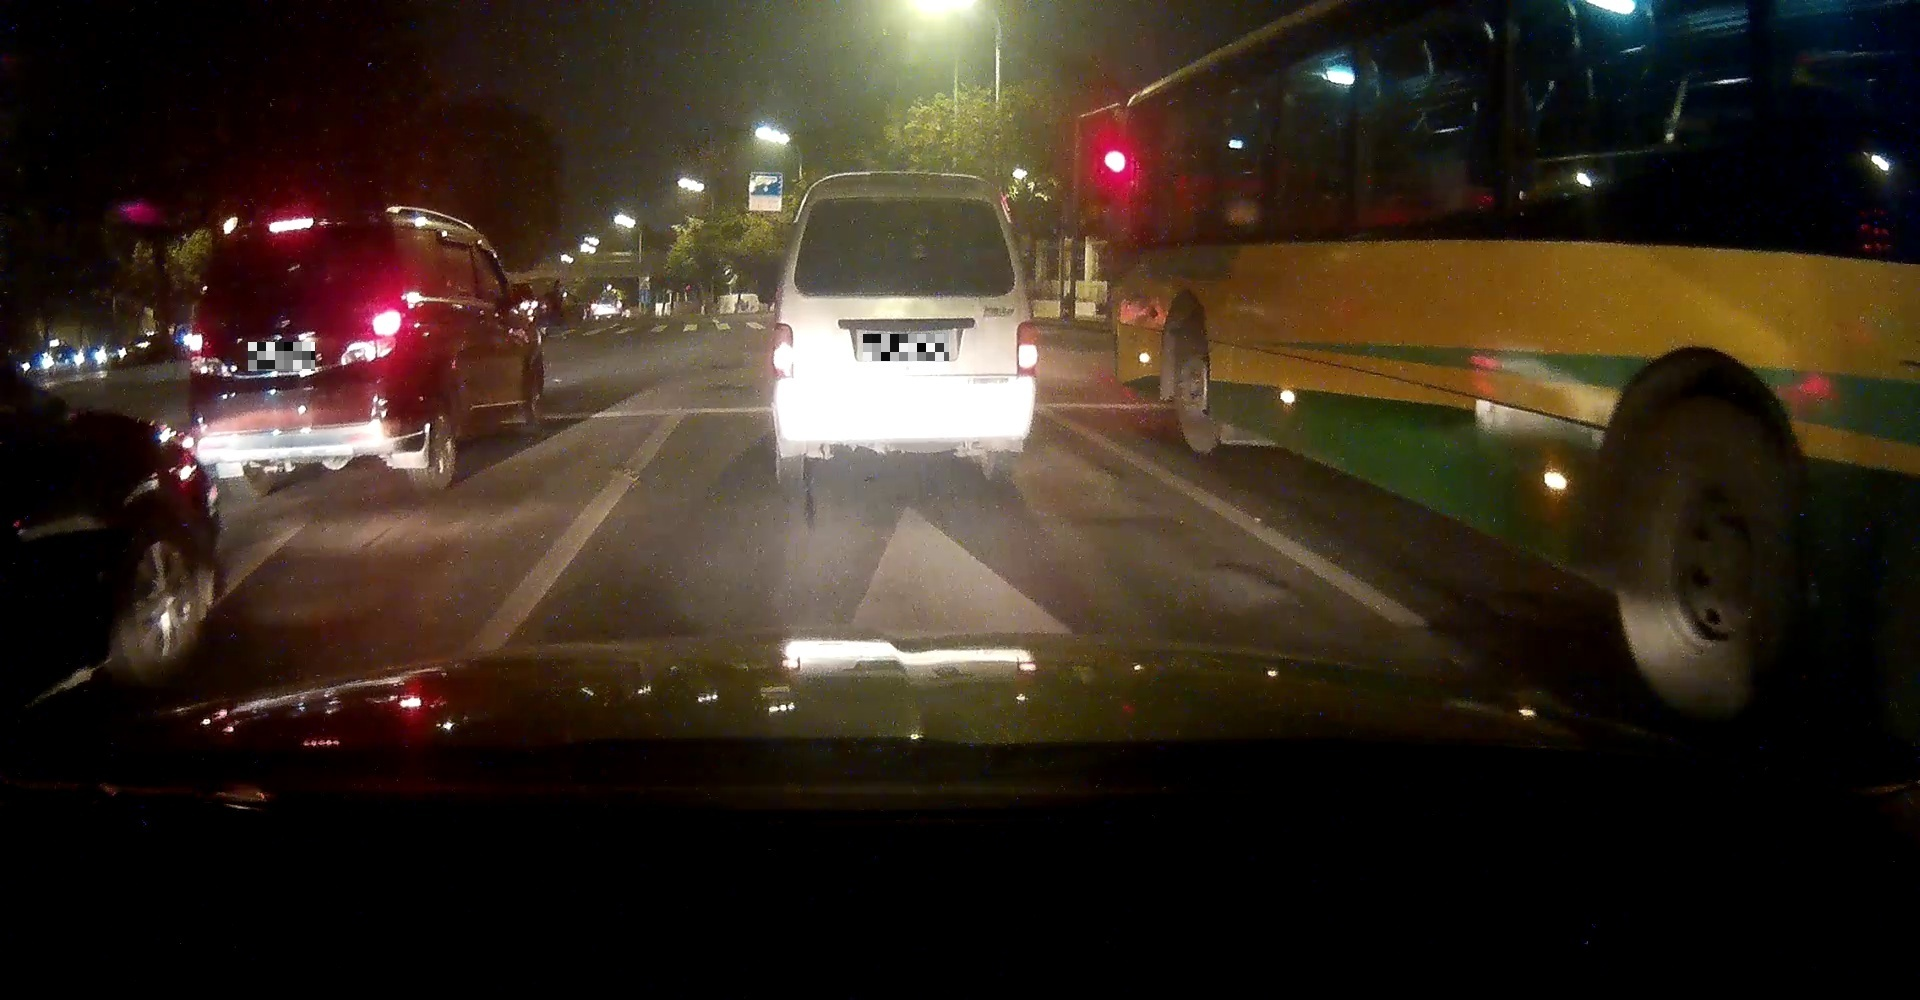L_light: (770, 322, 796, 402), (182, 324, 210, 362)
R_light: (368, 305, 408, 343), (1016, 317, 1037, 377)
T_light: (264, 213, 317, 234), (877, 193, 914, 203)
night-brake: (182, 198, 430, 501)
night-no: (770, 170, 1039, 490)
plate_1: (248, 341, 315, 371)
plate_2: (863, 334, 949, 360)
